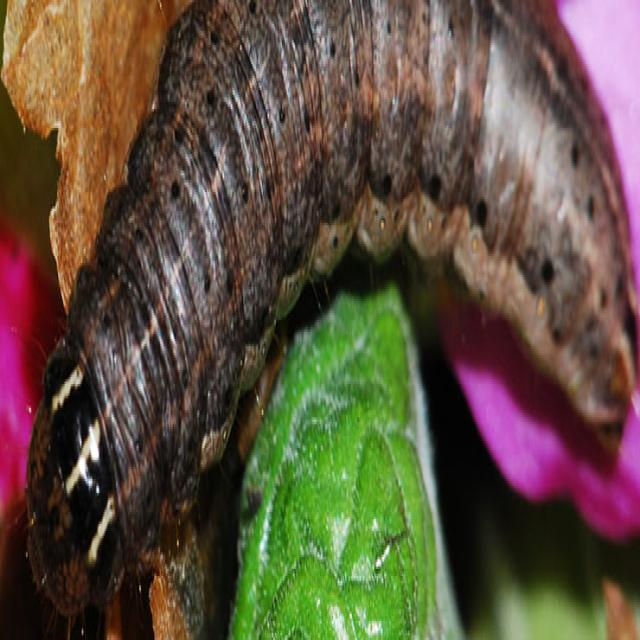Cutworm: (25, 1, 637, 636)
